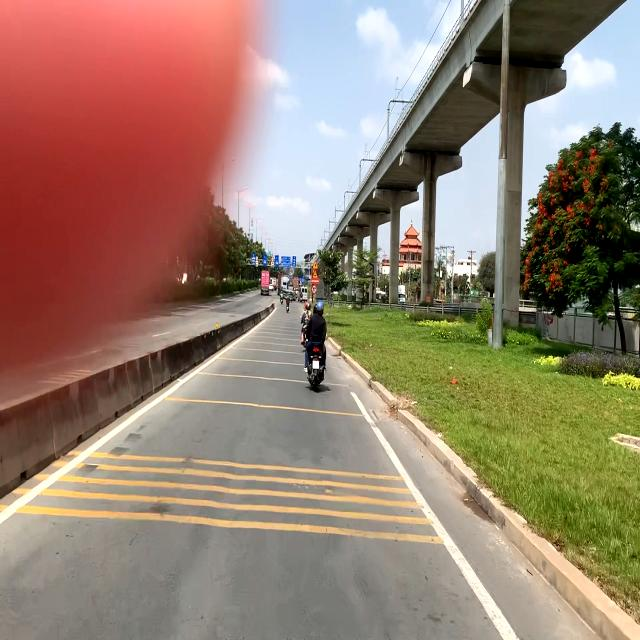P.123b: (312, 284, 317, 294)
W.207b: (312, 260, 318, 269)
W.245a: (312, 269, 319, 278)
